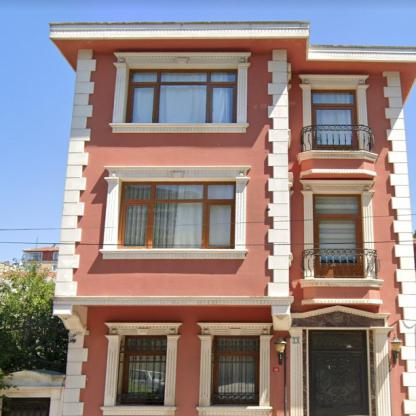door: (312, 352, 364, 416)
window: (122, 184, 233, 248), (128, 70, 236, 123), (314, 196, 357, 264), (123, 337, 166, 402), (215, 338, 258, 400), (312, 92, 354, 147), (312, 333, 362, 347), (29, 253, 41, 260), (53, 252, 58, 259), (53, 266, 57, 271)
